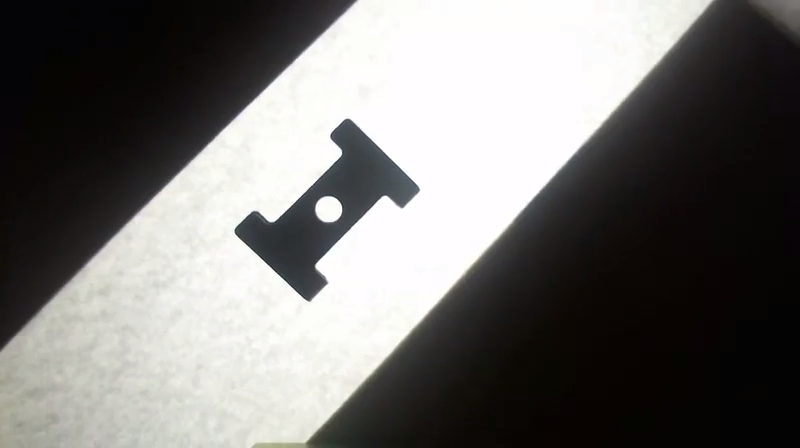O002: (230, 115, 421, 304)
